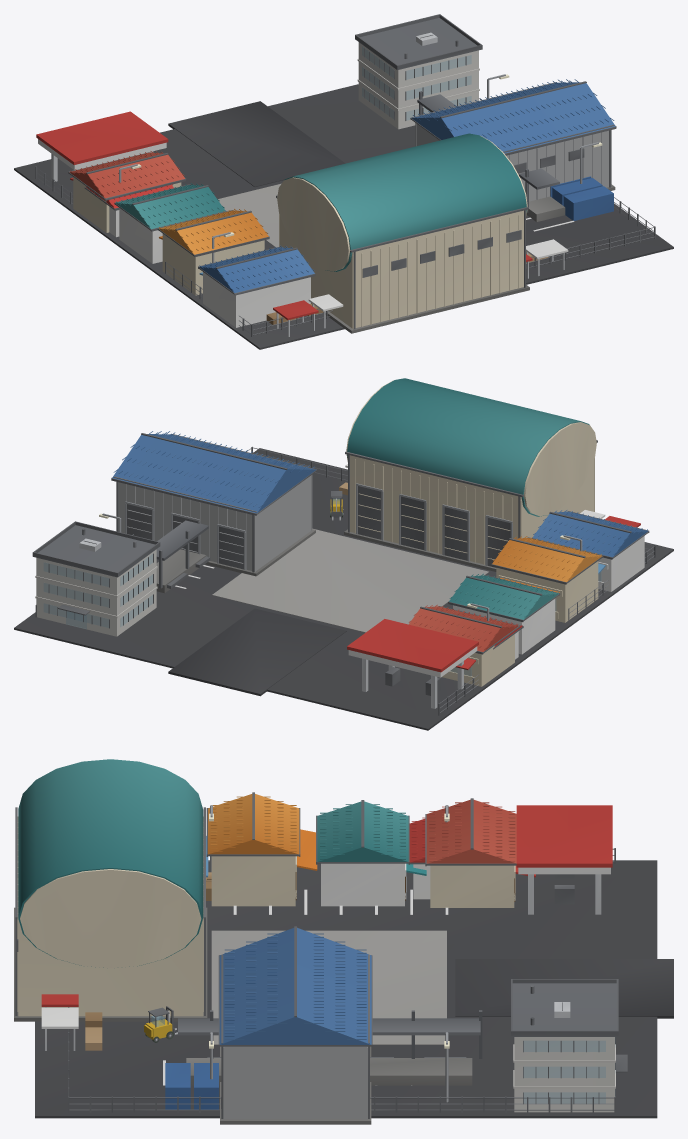
The model's file is Market_P3.fbx.
3 renders of one model, top to bottom at view 1: azimuth 30°, elevation 25°; view 2: azimuth 150°, elevation 25°; view 3: azimuth 270°, elevation 25°, orthographic. The views are drawn at different scales.
Visible parts, largest first — view 1: Market.WH1, Market.Pad, Market.WH2, Market.Office, Market.Shop3, Market.Shop2, Market.Fuel, Market.Shop0, Market.Shop1, Market.Stalls, Market.Goods, Market.Dock (+2 smaller); view 2: Market.Pad, Market.WH1, Market.WH2, Market.Office, Market.Fuel, Market.Shop2, Market.Shop3, Market.Shop1, Market.Shop0, Market.Dock, Market.Fence; view 3: Market.Pad, Market.WH1, Market.WH2, Market.Office, Market.Shop2, Market.Shop0, Market.Shop1, Market.Fuel, Market.Dock, Market.Fence, Market.Goods, Market.Stalls (+2 smaller).
Part boxes in pixels (x1,y1,x2,y2): Market.WH1: (276,133,529,333); Market.Pad: (14,84,673,349); Market.WH2: (410,79,616,201); Market.Office: (355,14,482,129); Market.Shop3: (198,245,315,327); Market.Shop2: (157,208,269,295); Market.Fuel: (36,111,168,181); Market.Shop0: (68,151,186,232); Market.Shop1: (114,183,226,263); Market.Stalls: (266,239,568,336); Market.Goods: (550,176,613,220); Market.Dock: (417,91,565,221); Market.Pad: (14,448,673,730); Market.WH1: (344,378,597,571); Market.WH2: (111,431,317,576); Market.Office: (32,521,160,636); Market.Fuel: (347,619,478,708); Market.Shop2: (491,536,603,622); Market.Shop3: (532,510,649,591); Market.Shop1: (448,573,560,654); Market.Shop0: (409,604,519,686); Market.Dock: (156,520,210,593); Market.Fence: (35,446,655,715); Market.Pad: (35,860,673,1118); Market.WH1: (14,759,207,1021); Market.WH2: (218,926,372,1124); Market.Office: (511,979,627,1112); Market.Shop2: (206,792,317,906); Market.Shop0: (425,798,535,907); Market.Shop1: (316,800,426,906); Market.Fuel: (516,805,612,914); Market.Dock: (178,1010,482,1085); Market.Fence: (68,848,615,1112); Market.Goods: (165,872,218,1109); Market.Stalls: (41,994,102,1050).
Size of the model in its own units: 7474 by 2041 by 7850.
